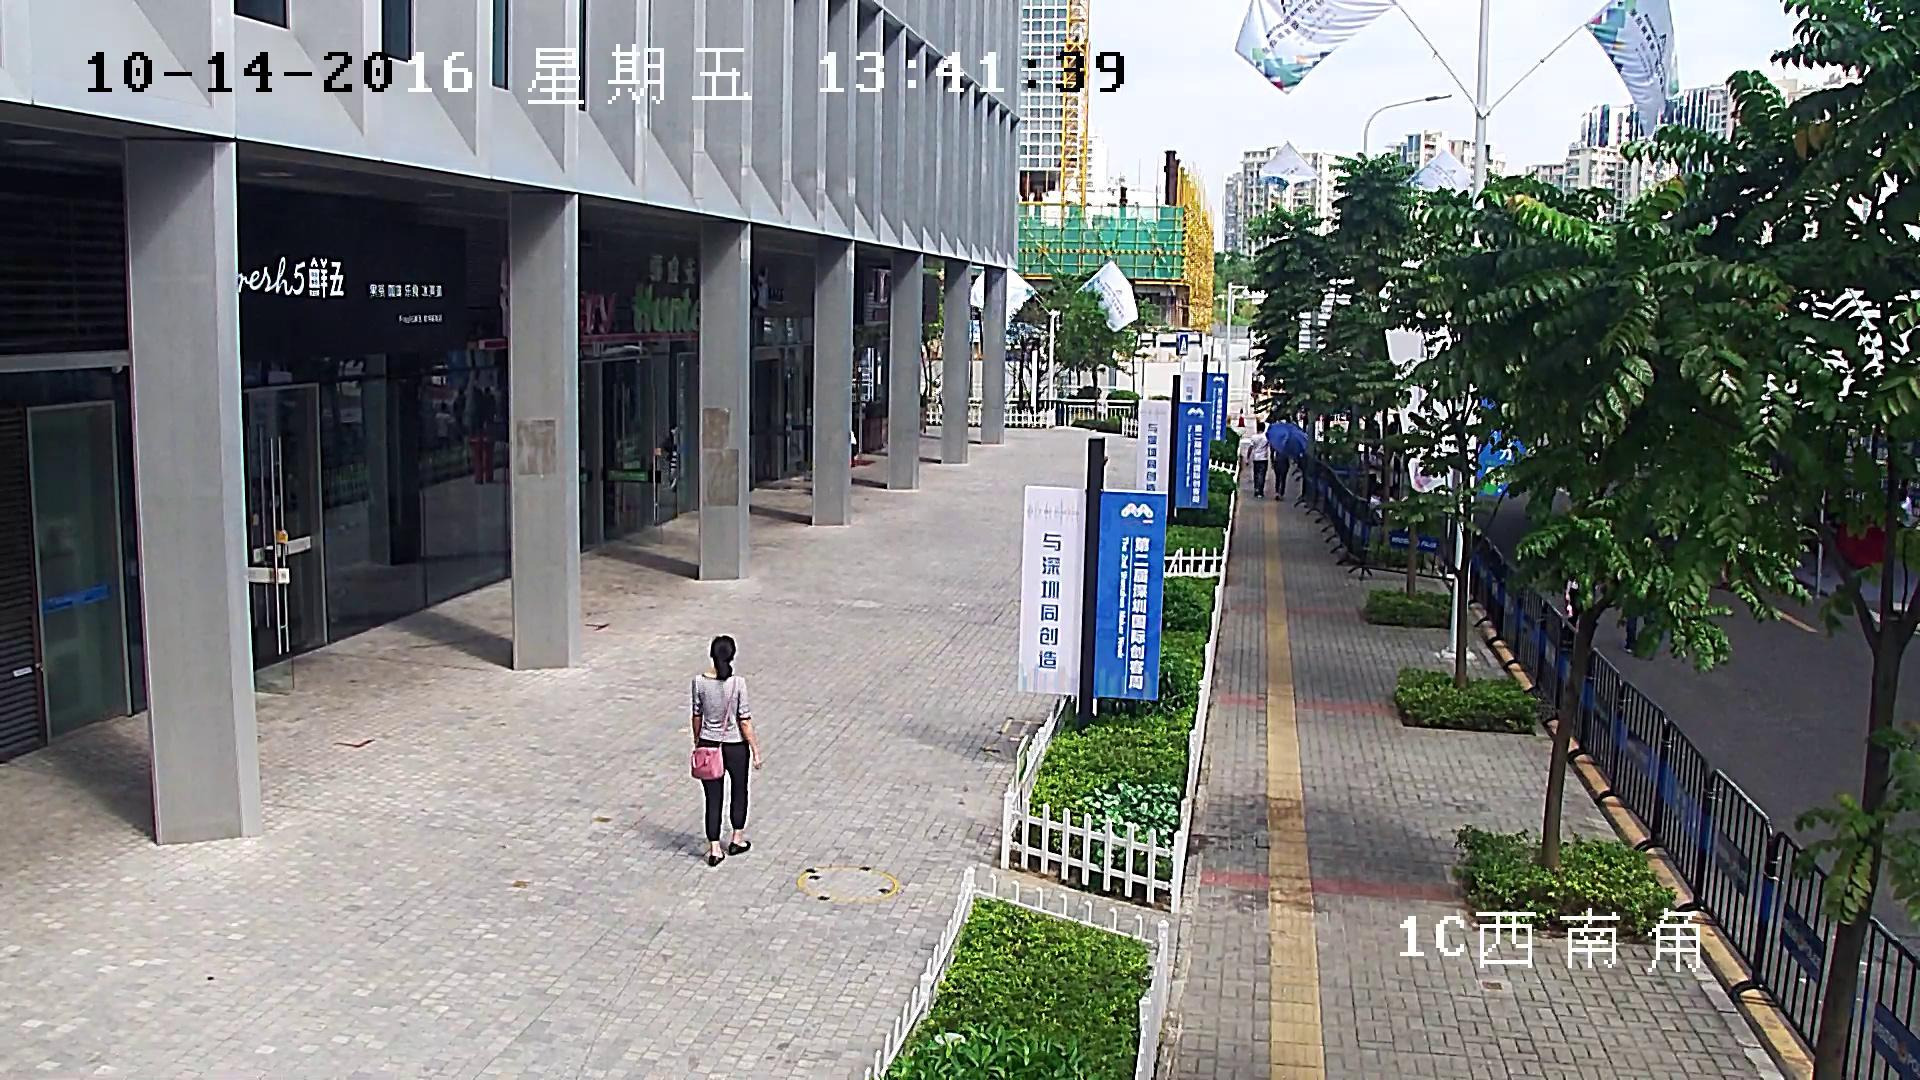person: (688, 634, 763, 867), (1265, 423, 1308, 500), (1243, 421, 1272, 499), (1270, 445, 1289, 499), (434, 401, 453, 445)
